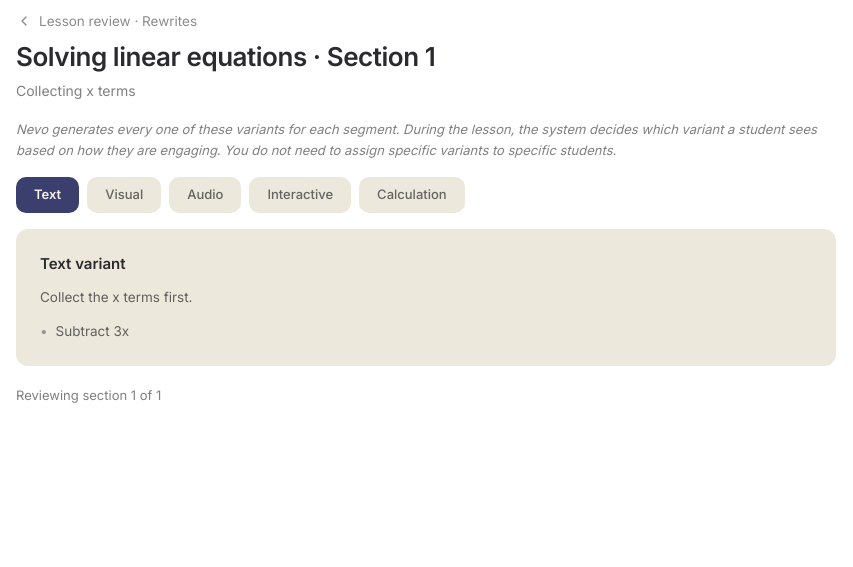
Test: a signed-in teacher's own lesson › offers a tab for every variant the contract carries
Step 1. Click the tab "Calculation" → (412, 195), box top-left (359, 177), bottom-right (465, 213)
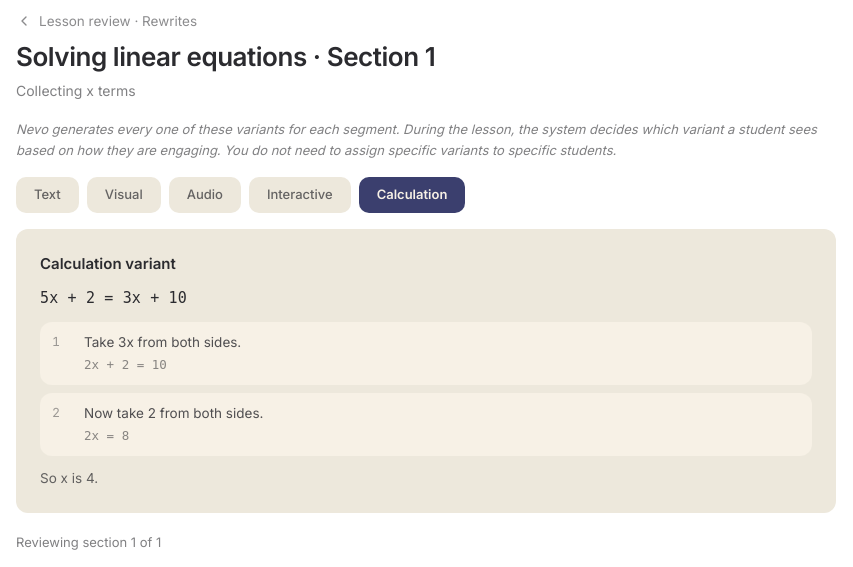
Check: the text "5x + 2 = 3x + 10" is shown, box top-left (40, 289), bottom-right (187, 307)
Check: the text "Take 3x from both sides." is shown, box top-left (84, 334), bottom-right (241, 350)
Check: the text "Now take 2 from both sides." is shown, box top-left (84, 405), bottom-right (263, 421)
